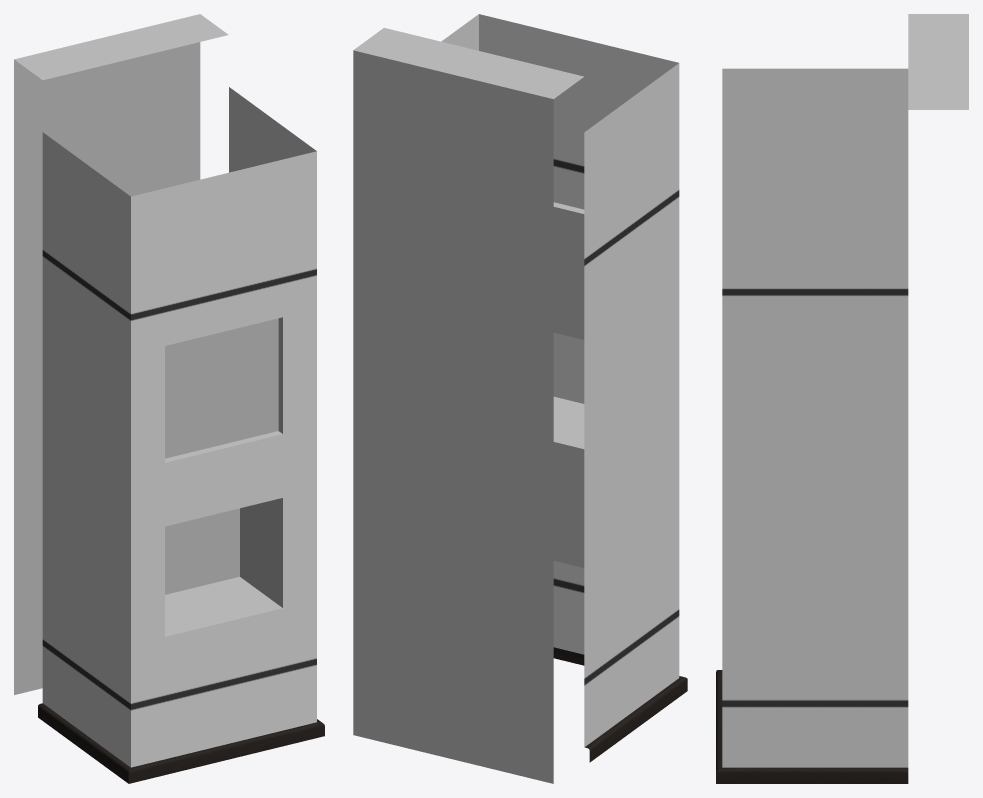
Rendered from Pillar04.FBX.
The picture shows the model from 3 angles, left to right: view 1: azimuth 30°, elevation 25°; view 2: azimuth 150°, elevation 25°; view 3: azimuth 270°, elevation 25°; orthographic projection. The views are drawn at different scales.
Visible parts, largest first — view 1: Pillar04; view 2: Pillar04; view 3: Pillar04.
Boxes of the visible parts, left/top/right/bottom form: Pillar04: left=14, top=14, right=324, bottom=783; Pillar04: left=353, top=14, right=687, bottom=783; Pillar04: left=716, top=14, right=968, bottom=783.
Size of the model in its own units: 1.58 by 4.9 by 1.67.
